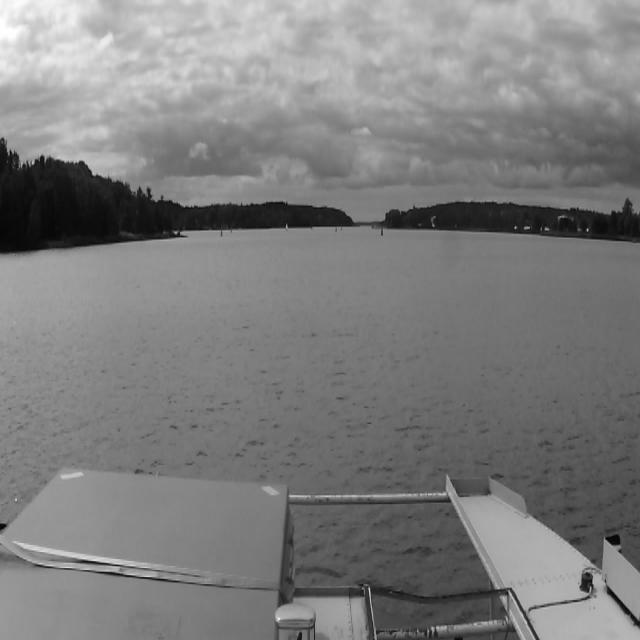buoy: (220, 225, 223, 238), (381, 226, 383, 236), (230, 226, 232, 234), (335, 225, 337, 232)
ship: (285, 222, 288, 231)
